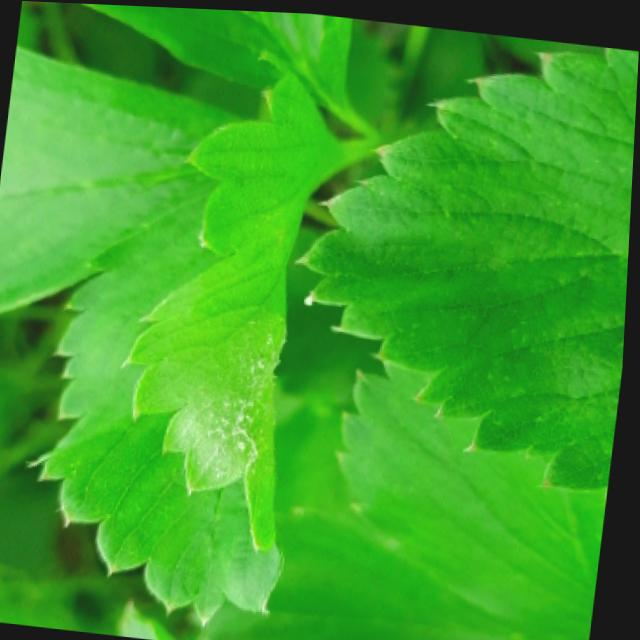Powdery Mildew Leaf: (42, 45, 373, 622)
